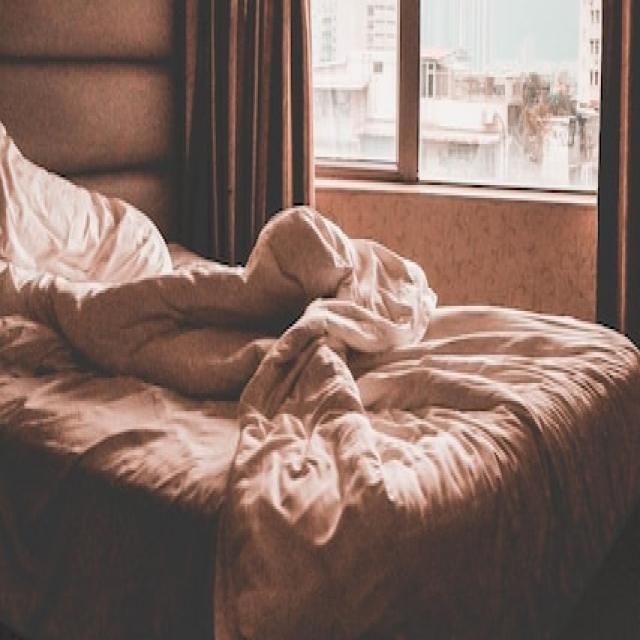bed: (9, 115, 640, 628)
